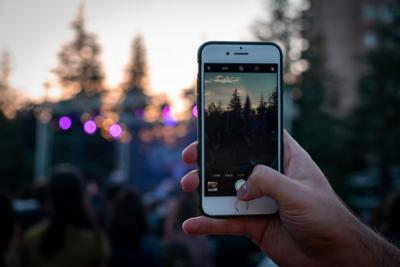cell-phone: (193, 37, 287, 224)
